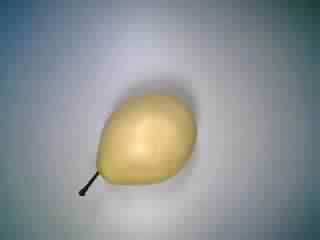pear: (71, 89, 206, 205)
